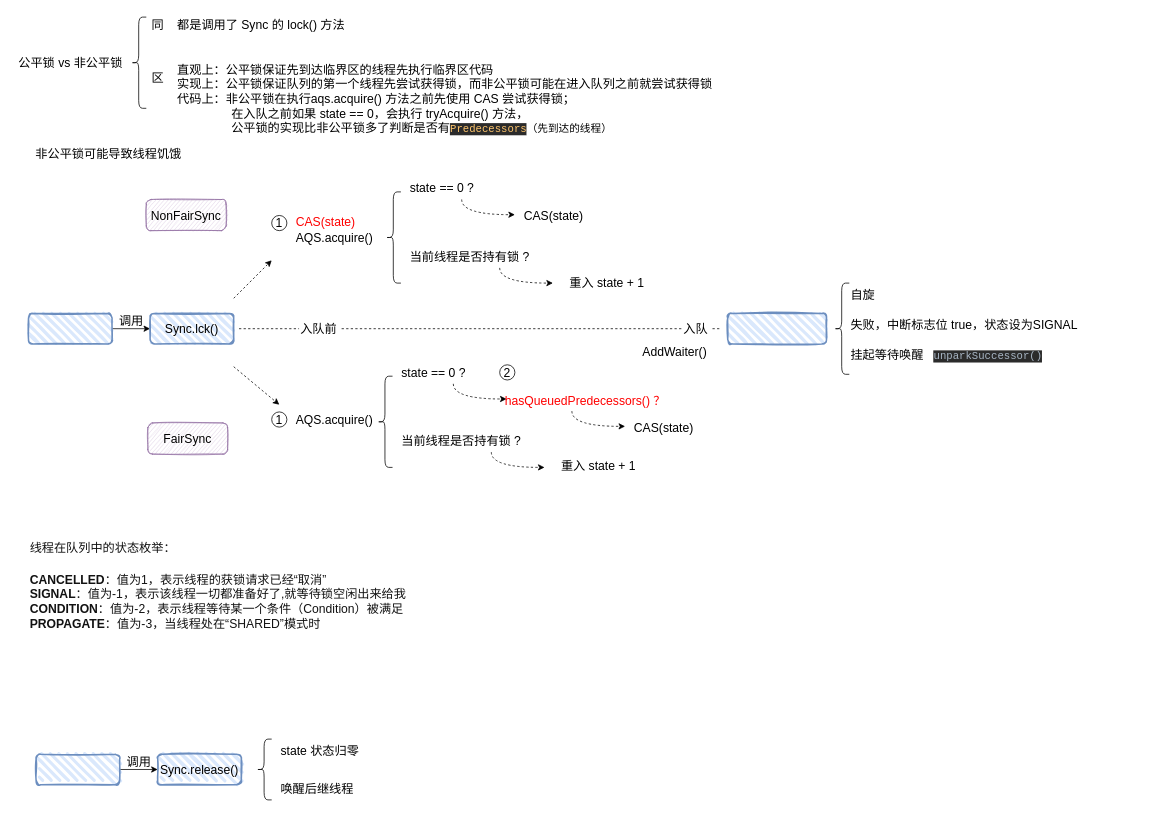
The diagram is 1151 pixels wide and 813 high, and some of its shapes have lost their labels. The centre of each missing label's shape, as x and y in pixels:
"acquireQueued()" belongs at point 777,328.
"lock.lock()" belongs at point 69,328.
"lock.unlock()" belongs at point 77,769.
